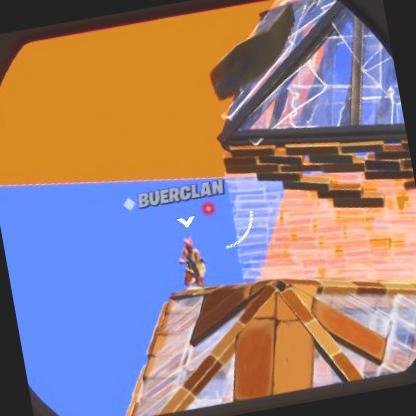person: (176, 236, 214, 282)
